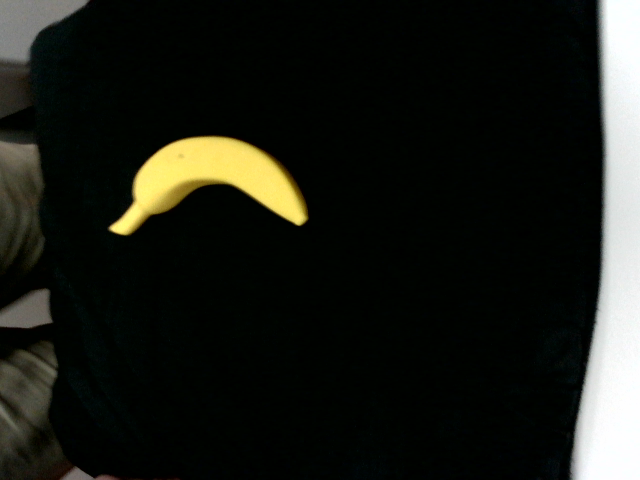banana: (104, 131, 308, 235)
